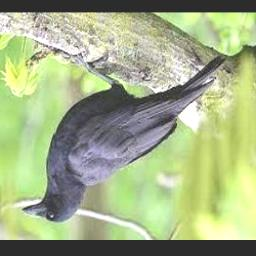Crow: (20, 54, 226, 223)
